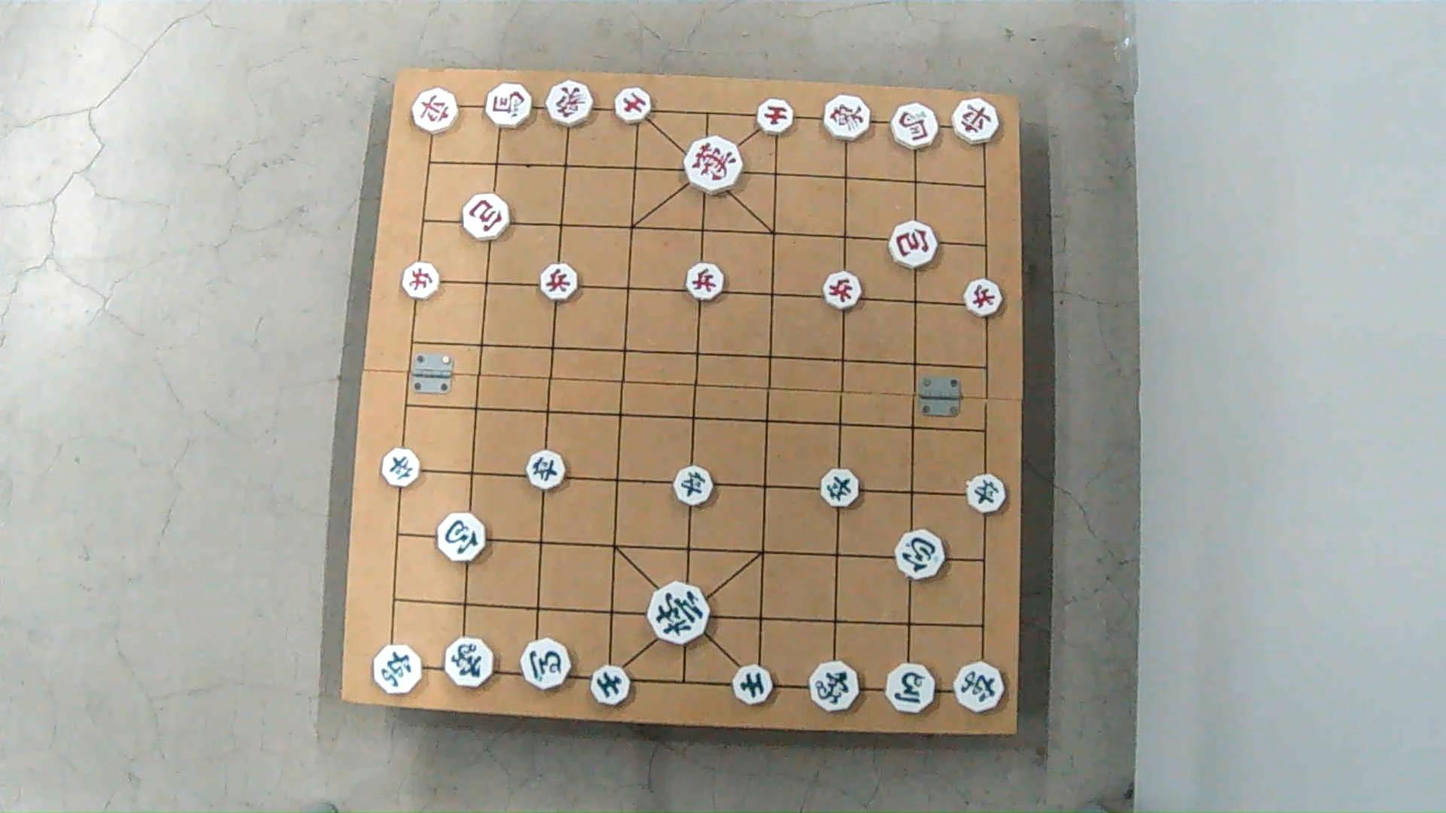cha_green: (951, 662, 1005, 710), (374, 647, 423, 694)
cha_red: (412, 87, 459, 132), (952, 98, 1000, 140)
jol_green: (527, 450, 569, 489), (675, 468, 717, 506), (963, 473, 1006, 510), (819, 470, 859, 507), (382, 449, 422, 486)
jol_red: (686, 263, 726, 300), (960, 279, 1001, 315), (538, 264, 578, 300), (821, 272, 862, 307), (401, 264, 441, 298)
ma_green: (520, 637, 569, 692), (884, 664, 936, 712)
ma_red: (889, 101, 941, 152), (484, 84, 533, 130)
po_green: (893, 531, 944, 578), (436, 513, 487, 560)
po_red: (463, 193, 511, 240), (888, 222, 936, 266)
sa_green: (734, 666, 773, 708), (594, 666, 633, 705)
sa_red: (756, 98, 795, 134), (612, 89, 651, 123)
sang_green: (444, 635, 496, 691), (810, 662, 860, 710)
sang_red: (822, 96, 870, 139), (547, 82, 595, 125)
wang_green: (648, 586, 709, 644)
wang_red: (685, 138, 742, 190)
